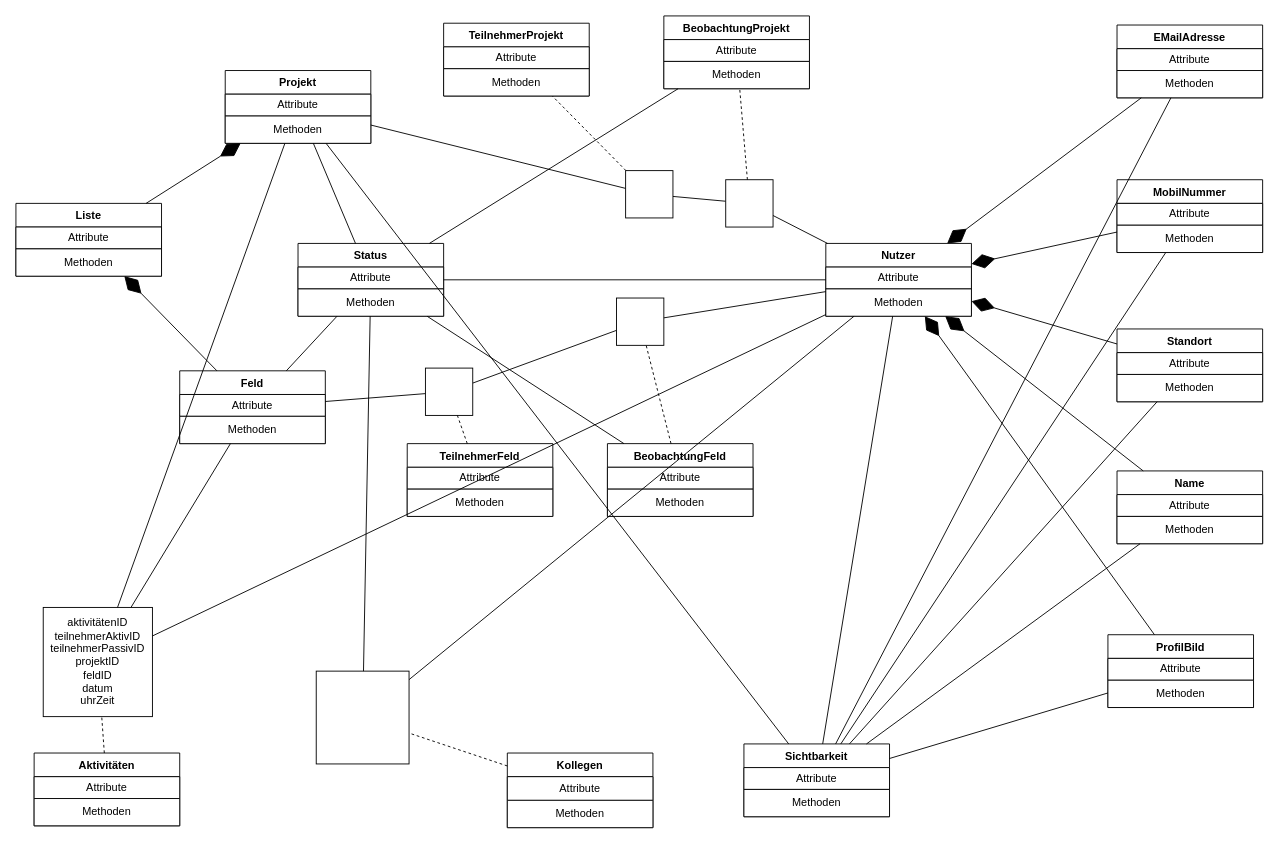
This 1279x844 diagram has some shape labels left out. The shapes that lost their labels are listed below. From the top down, each one's centre as x and y in pixels, then its label:
the point at 649,194: projektID nutzerID
the point at 749,203: projektID nutzerID statusID
the point at 640,321: feldID nutzerID statusID
the point at 449,391: feldID nutzerID
the point at 362,717: aktiverNutzerID passiverNutzerID statusFavoritID statusKollegeID
